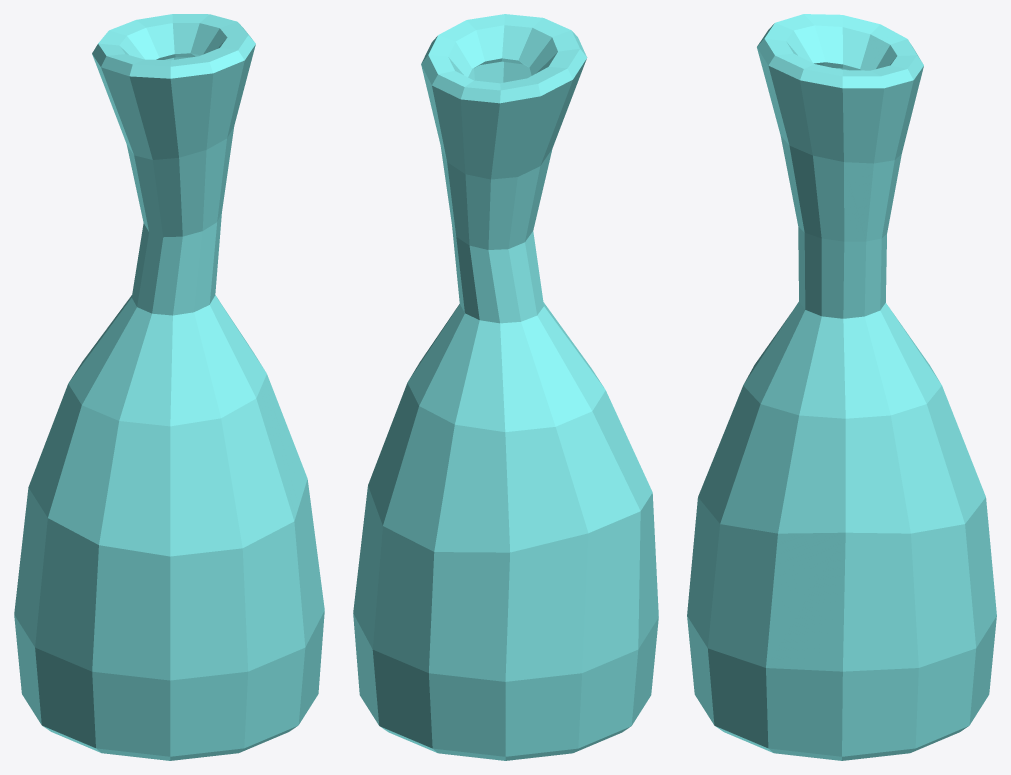
The model's file is vase_unbroken.fbx.
3 views of the same model, side by side, from view 1: azimuth 30°, elevation 25°; view 2: azimuth 150°, elevation 25°; view 3: azimuth 270°, elevation 25° (orthographic).
Parts seen in each view (by area): view 1: flower pot 2; view 2: flower pot 2; view 3: flower pot 2.
Part boxes in pixels (x1,y1,x2,y2): flower pot 2: (14,14,324,760); flower pot 2: (353,14,658,760); flower pot 2: (687,14,996,760).
Size of the model in its own units: 26.14 by 62.34 by 26.34.
